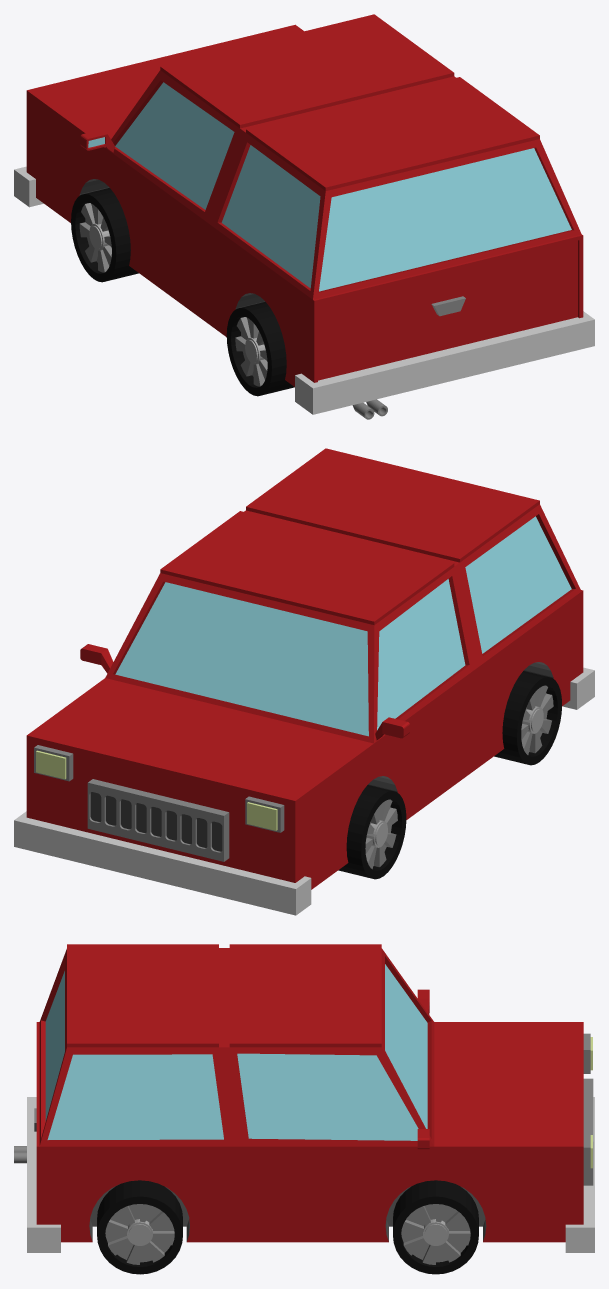
The model's file is car1.fbx.
3 views of the same model, one above another, from view 1: azimuth 30°, elevation 25°; view 2: azimuth 150°, elevation 25°; view 3: azimuth 270°, elevation 25° (orthographic). The views are drawn at different scales.
Visible parts, largest first — view 1: Car1; view 2: Car1; view 3: Car1.
Boxes of the visible parts, x1,y1,x2,y2 form: Car1: [14, 14, 594, 419]; Car1: [14, 448, 594, 915]; Car1: [14, 944, 594, 1274].
Size of the model in its own units: 132 by 87.79 by 217.
